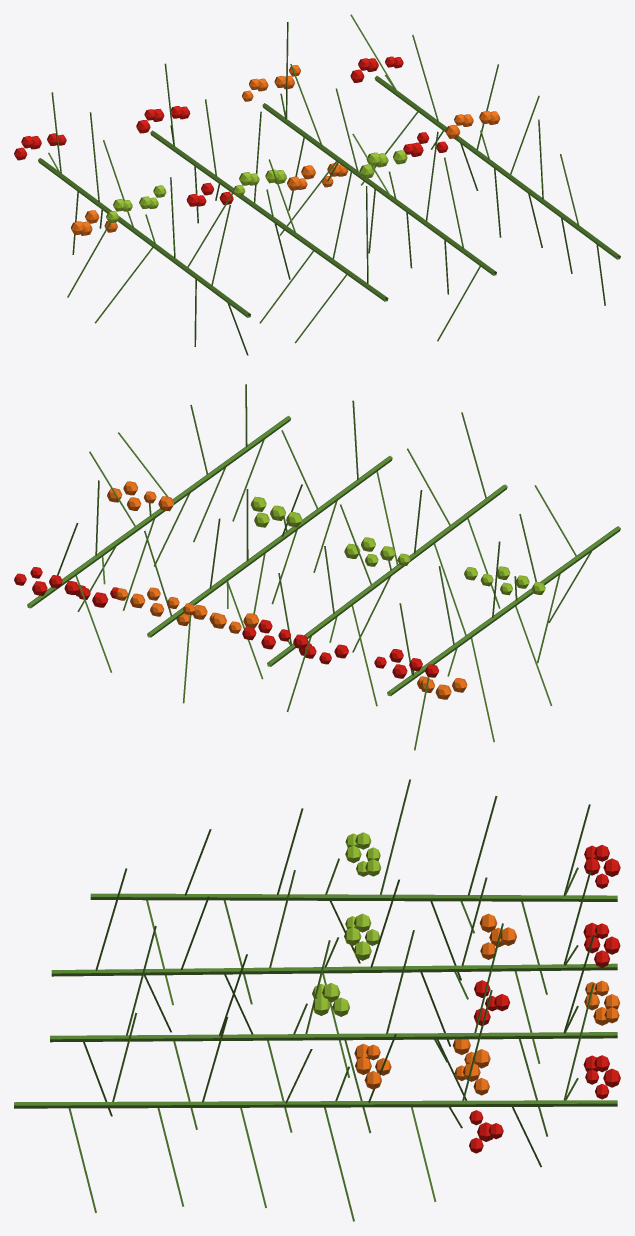
Rendered from r16c5_stems.obj.
3 views of the same model, one above another, from view 1: azimuth 30°, elevation 25°; view 2: azimuth 150°, elevation 25°; view 3: azimuth 270°, elevation 25° (orthographic). The views are drawn at different scales.
Visible parts, largest first — view 1: r16c5_stems; view 2: r16c5_stems; view 3: r16c5_stems.
Part boxes in pixels (bbox=[...]): r16c5_stems: bbox=[14, 14, 620, 355]; r16c5_stems: bbox=[14, 384, 620, 750]; r16c5_stems: bbox=[14, 779, 620, 1221].
Size of the model in its own units: 2.16 by 0.8399 by 2.14.
